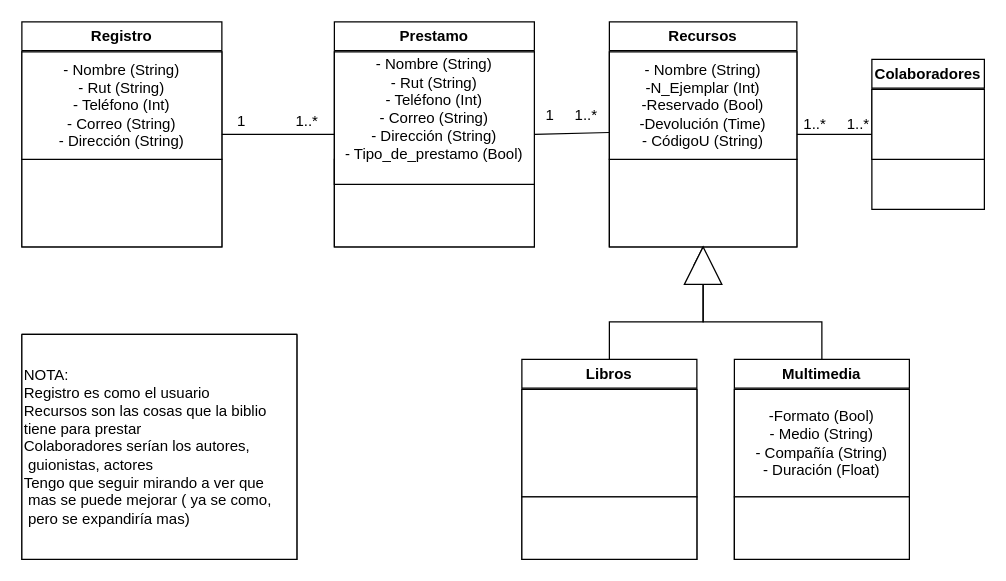
This 1006x581 diagram has some shape labels left out. Each missing label, with the centre of its shape:
- Nombre (String) -Tipo (String): the point at 927,123
-Subtipo (String) - Editorial (String) -NúmeroP (Int): the point at 609,442
CrearCuenta() CambiarDatos(): the point at 121,202
IngresarRecursos() CrearPrestamo(): the point at 433,202
MarcarDesmarcarPrestado() EncontrarRecurso(): the point at 702,202
